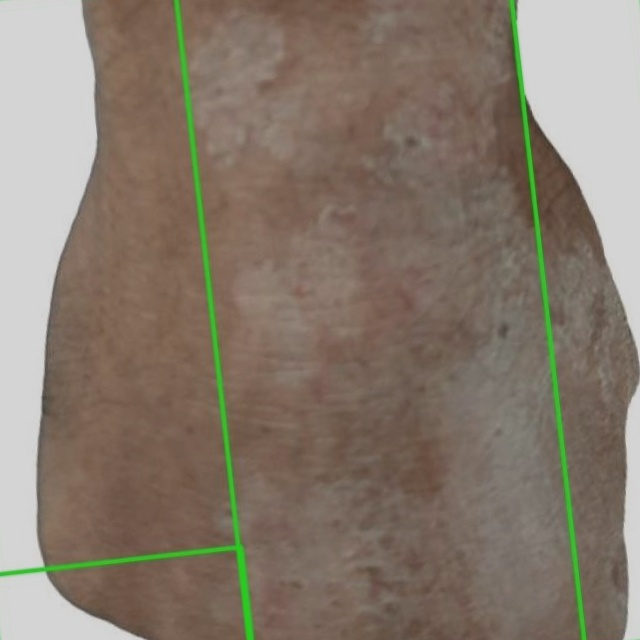Tinea Corporis: (0, 0, 249, 639), (511, 0, 639, 639)
